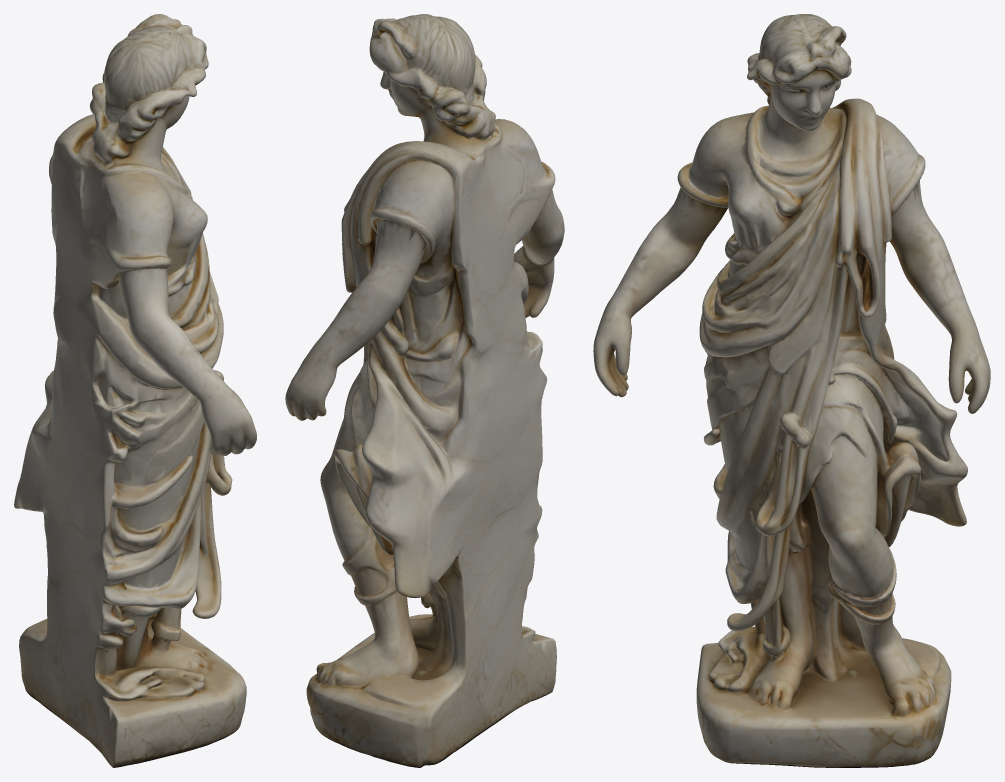
The model's file is prop-statue-small-greek.glb.
3 renders of one model, left to right at view 1: azimuth 30°, elevation 25°; view 2: azimuth 150°, elevation 25°; view 3: azimuth 270°, elevation 25°, orthographic. The views are drawn at different scales.
Visible parts, largest first — view 1: tripo_node_5ef872e3-9fcf-43e9-97ee-5a78a4c3eac5; view 2: tripo_node_5ef872e3-9fcf-43e9-97ee-5a78a4c3eac5; view 3: tripo_node_5ef872e3-9fcf-43e9-97ee-5a78a4c3eac5.
Part boxes in pixels (x1=…): tripo_node_5ef872e3-9fcf-43e9-97ee-5a78a4c3eac5: x1=14, y1=14, x2=256, y2=767; tripo_node_5ef872e3-9fcf-43e9-97ee-5a78a4c3eac5: x1=285, y1=14, x2=564, y2=767; tripo_node_5ef872e3-9fcf-43e9-97ee-5a78a4c3eac5: x1=593, y1=14, x2=990, y2=767.
Bounding box in the file's own units: 0.499 × 2 × 0.994.
1 material, 1 textured.
